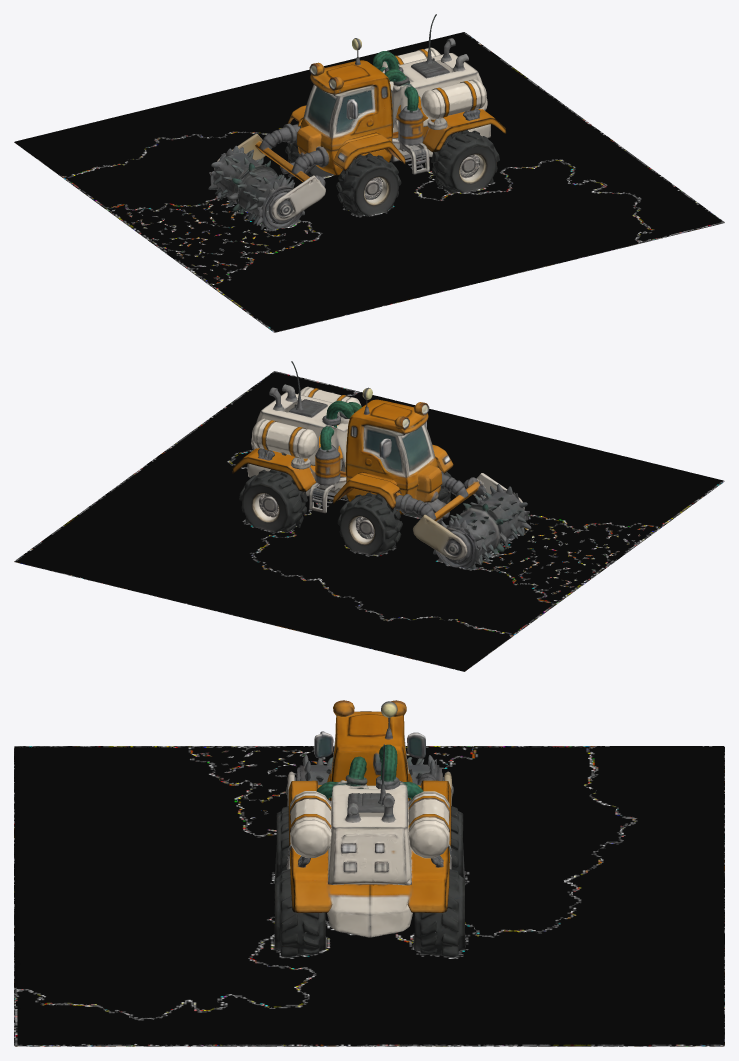
The model's file is burovaya-04.glb.
3 renders of one model, top to bottom at view 1: azimuth 30°, elevation 25°; view 2: azimuth 150°, elevation 25°; view 3: azimuth 270°, elevation 25°, orthographic. The views are drawn at different scales.
Visible parts, largest first — view 1: geometry_0; view 2: geometry_0; view 3: geometry_0.
Part boxes in pixels (x1=…): geometry_0: x1=14, y1=14, x2=724, y2=332; geometry_0: x1=14, y1=361, x2=724, y2=671; geometry_0: x1=14, y1=700, x2=724, y2=1046.
Bounding box in the file's own units: 0.9917 × 0.3279 × 0.993.
Materials: 1 (1 with a texture image).
